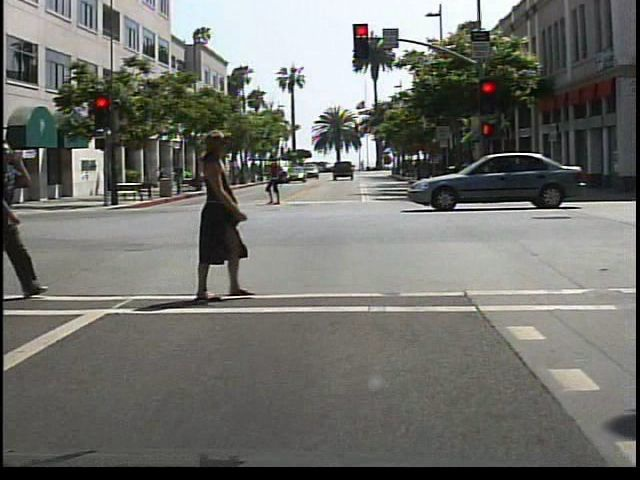person: (185, 133, 279, 306), (2, 142, 36, 305), (265, 156, 293, 209), (171, 160, 190, 198)
